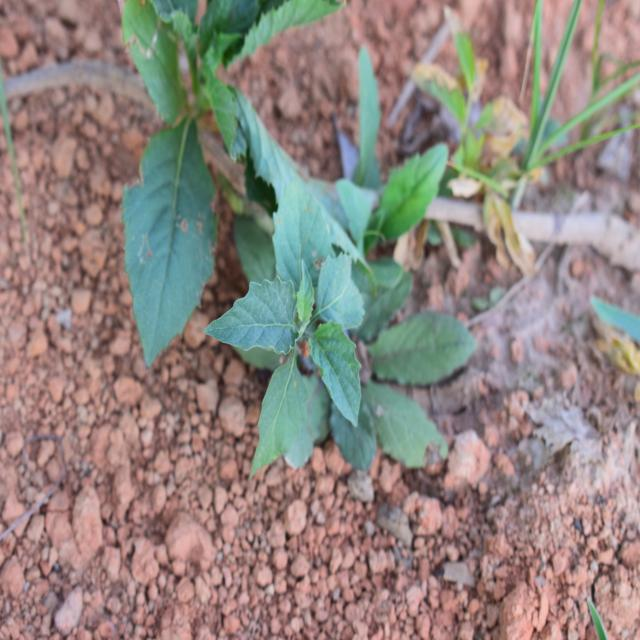Black_nightshade: (214, 196, 400, 462)
